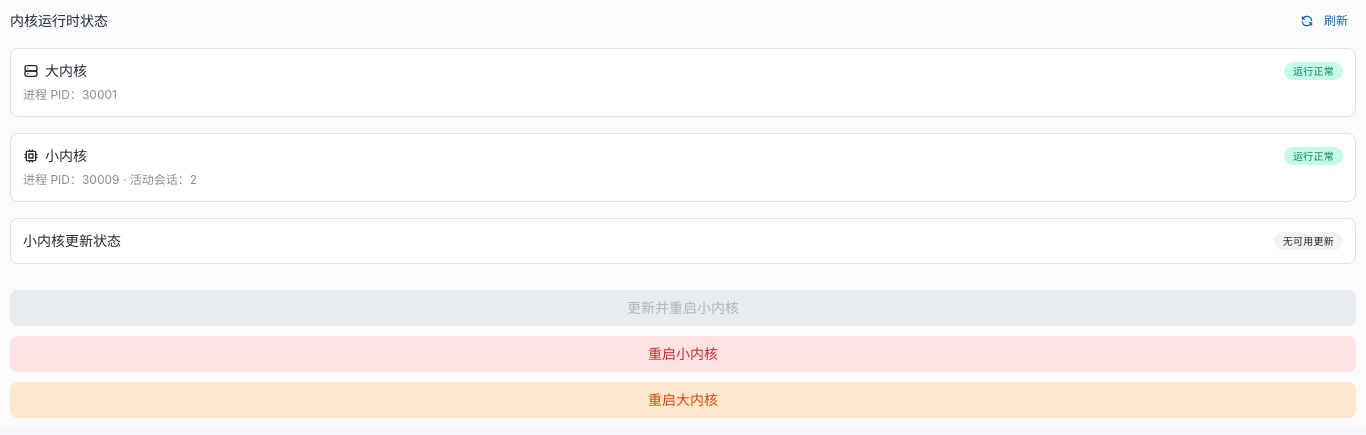
it: KernelManagementPanel › disables update button when update_available is false and enables when true
Check: the button "更新并重启小内核" is disabled, box top-left (10, 290), bottom-right (1356, 326)
What coordinates should you click on to do the following:
click the button "刷新"
I would click on:
 (1325, 21)
Its box is top-left (1294, 10), bottom-right (1356, 32).
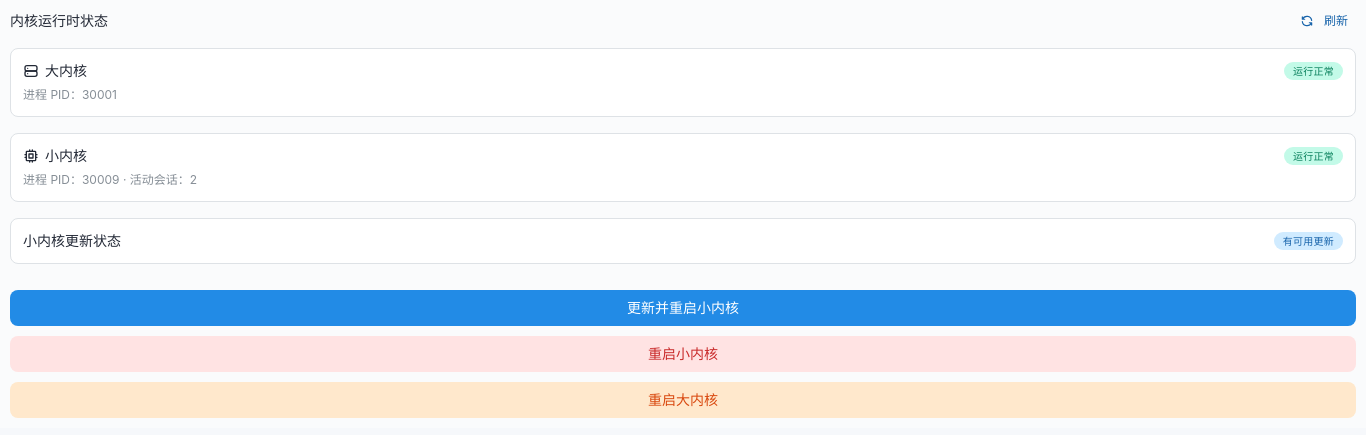
Check: the button "更新并重启小内核" is enabled, box top-left (10, 290), bottom-right (1356, 326)
